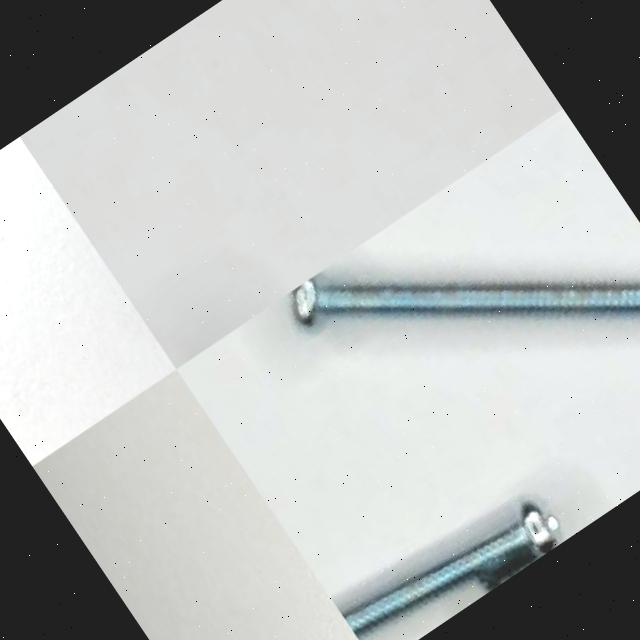Screw: (344, 503, 555, 636), (292, 276, 640, 324), (485, 559, 537, 592)
